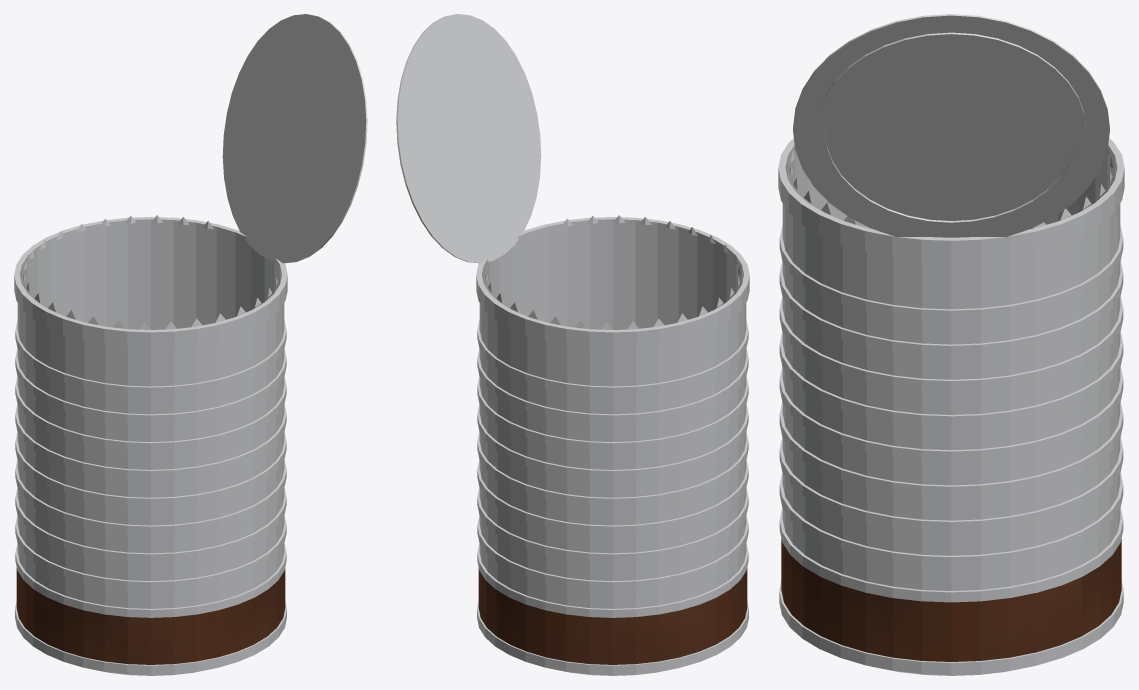
The model's file is lata_vazia.glb.
3 views of the same model, side by side, from view 1: azimuth 30°, elevation 25°; view 2: azimuth 150°, elevation 25°; view 3: azimuth 270°, elevation 25° (orthographic). The views are drawn at different scales.
Parts seen in each view (by area): view 1: lata_vazia_lata, lata_vazia_ferrugem; view 2: lata_vazia_lata, lata_vazia_ferrugem; view 3: lata_vazia_lata, lata_vazia_ferrugem.
Part boxes in pixels (x1,y1,x2,y2): lata_vazia_lata: (14, 14, 367, 675); lata_vazia_ferrugem: (16, 568, 285, 664); lata_vazia_lata: (396, 14, 749, 675); lata_vazia_ferrugem: (478, 568, 747, 664); lata_vazia_lata: (778, 14, 1124, 675); lata_vazia_ferrugem: (781, 539, 1121, 661).
Bounding box in the file's own units: 0.0983 × 0.1756 × 0.078.
2 materials, 1 textured.
